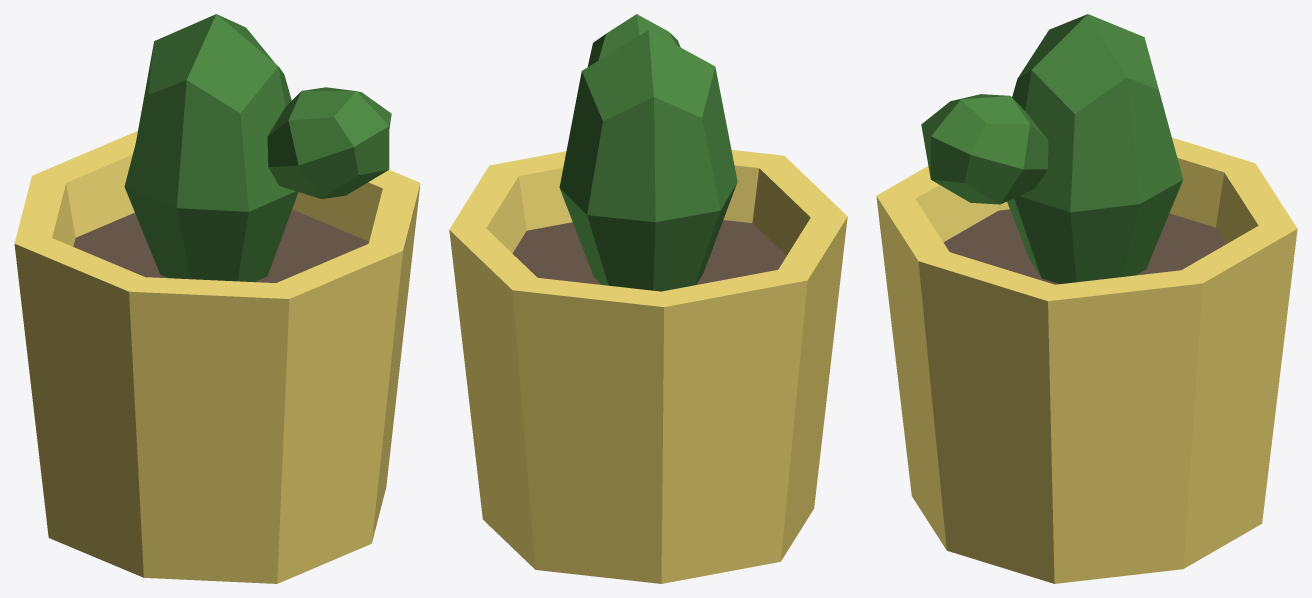
Rendered from Cactus_3.fbx.
3 views of the same model, side by side, from view 1: azimuth 30°, elevation 25°; view 2: azimuth 150°, elevation 25°; view 3: azimuth 270°, elevation 25° (orthographic). The views are drawn at different scales.
Parts seen in each view (by area): view 1: Cactus_3; view 2: Cactus_3; view 3: Cactus_3.
Boxes of the visible parts, x1,y1,x2,y2 form: Cactus_3: (14,14,420,583); Cactus_3: (449,14,847,583); Cactus_3: (876,14,1297,583).
Size of the model in its own units: 20.8 by 20.8 by 27.01.
